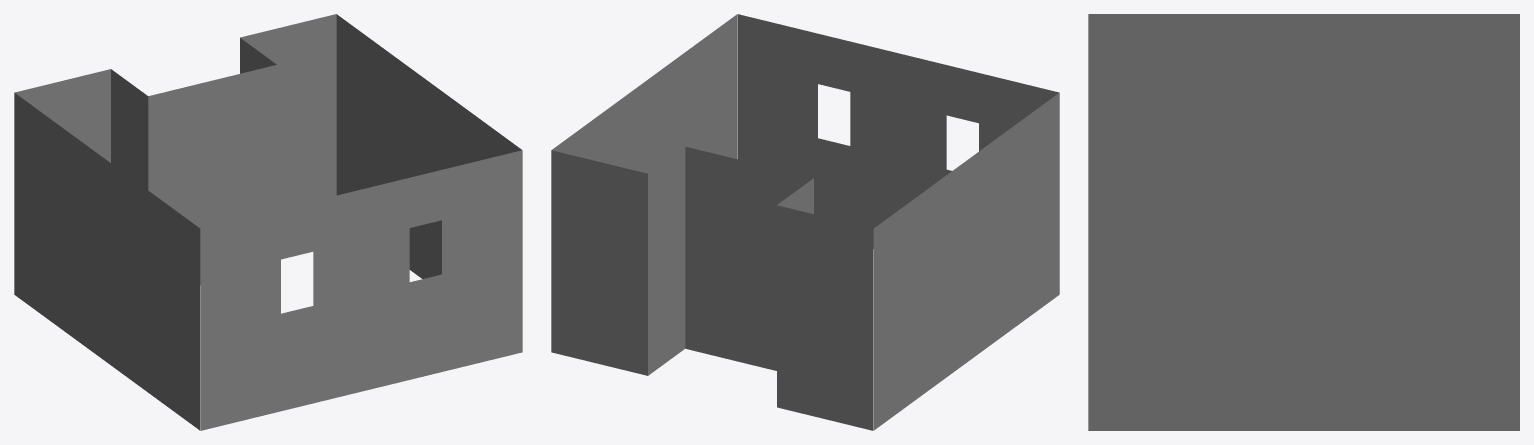
Rendered from s_hub_walls.fbx.
3 views of the same model, side by side, from view 1: azimuth 30°, elevation 25°; view 2: azimuth 150°, elevation 25°; view 3: azimuth 270°, elevation 25° (orthographic). The views are drawn at different scales.
Visible parts, largest first — view 1: S Hub Walls; view 2: S Hub Walls; view 3: S Hub Walls.
Part boxes in pixels (bbox=[...]): S Hub Walls: bbox=[14, 14, 522, 430]; S Hub Walls: bbox=[551, 14, 1059, 430]; S Hub Walls: bbox=[1088, 14, 1519, 430].
Size of the model in its own units: 500 by 300 by 500.
